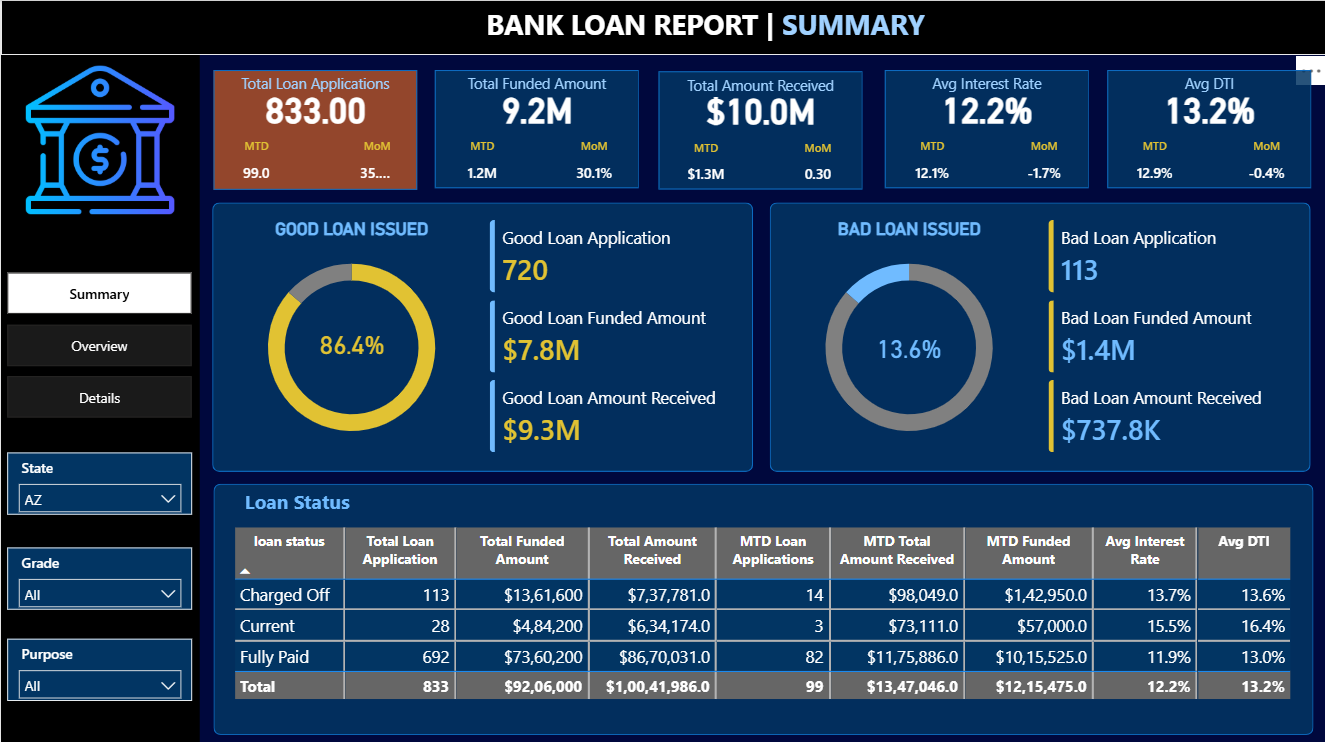

The page's visual inventory and layout, read from the dashboard file:
{"tool":"powerbi","page":{"name":"Summary","canvas":[1280,720],"ordinal":0},"visuals":[{"type":"shape","box":[0,53.1,191.8,667.2],"z":0},{"type":"shape","box":[0,0,1280,53],"z":1000},{"type":"shape","box":[205.1,67.3,196.6,115.7],"z":1000,"group":"g1"},{"type":"shape","box":[418,67.3,197.2,114.2],"z":1000,"group":"g2"},{"type":"shape","box":[1067.7,67.3,197.2,114.2],"z":1000,"group":"g4"},{"type":"shape","box":[634.6,68.5,197.2,114.2],"z":1000,"group":"g3"},{"type":"donutChart","title":"GOOD LOAN ISSUED","fields":{"Category":["Bank_loan_data.Good vs Bad Loan"],"Y":["Bank_loan_data.Total Loan Application"]},"box":[213.5,211.1,250,230],"z":1500,"group":"g5"},{"type":"shape","box":[853.1,67.2,197.2,114.2],"z":2000},{"type":"cardVisual","fields":{"Data":["Bank_loan_data.Total Funded Amount"]},"box":[419.5,80.7,196,52.4],"z":2000,"group":"g2"},{"type":"cardVisual","fields":{"Data":["Bank_loan_data.Avg DTI"]},"box":[1069.2,80.7,196,52.4],"z":2000,"group":"g4"},{"type":"cardVisual","fields":{"Data":["Bank_loan_data.Total Loan Application"]},"box":[206.6,80.9,195.4,53.1],"z":2000,"group":"g1"},{"type":"cardVisual","fields":{"Data":["Bank_loan_data.Total Amount Received"]},"box":[636.1,81.9,196,52.4],"z":2000,"group":"g3"},{"type":"cardVisual","fields":{"Data":["Bank_loan_data.Avg Interest Rate"]},"box":[854.6,80.6,196,52.4],"z":3000},{"type":"cardVisual","fields":{"Data":["Bank_loan_data.Good Loan Application"]},"box":[278.6,307.6,120.6,51.9],"z":3000,"group":"g5"},{"type":"shape","box":[203.9,195.4,522,260],"z":4000},{"type":"textbox","box":[463.3,0,447.6,56.7],"z":5000},{"type":"textbox","box":[205.4,66.4,196.6,29],"z":5000,"group":"g1"},{"type":"textbox","box":[418.3,66.4,197.2,28.6],"z":5000,"group":"g2"},{"type":"textbox","box":[1068,66.4,197.2,28.6],"z":5000,"group":"g4"},{"type":"textbox","box":[634.9,67.6,197.2,28.6],"z":5000,"group":"g3"},{"type":"group","id":"g1","title":"Group 1","box":[205.1,66.4,196.6,117],"z":6000},{"type":"cardVisual","title":"MTD","fields":{"Data":["Bank_loan_data.MTD Funded Amount"]},"box":[418.7,133.4,89.5,48.8],"z":6000,"group":"g2"},{"type":"cardVisual","title":"MTD","fields":{"Data":["Bank_loan_data.MTD Avg DTI"]},"box":[1068.4,133.4,89.5,48.8],"z":6000,"group":"g4"},{"type":"cardVisual","title":"MTD","fields":{"Data":["Bank_loan_data.MTD Loan Applications"]},"box":[206.6,134,80.8,49.5],"z":6000,"group":"g1"},{"type":"cardVisual","title":"MTD","fields":{"Data":["Bank_loan_data.MTD Total Amount Received"]},"box":[635.3,134.6,89.5,48.8],"z":6000,"group":"g3"},{"type":"group","id":"g2","title":"Group 1","box":[418,66.4,197.9,115.8],"z":7000},{"type":"cardVisual","title":"MoM","fields":{"Data":["Bank_loan_data.MoM Total Funded Amount"]},"box":[527.5,133.4,88.3,48.8],"z":7000,"group":"g2"},{"type":"cardVisual","title":"MoM","fields":{"Data":["Bank_loan_data.MoM Avg DTI"]},"box":[1177.2,133.4,88.3,48.8],"z":7000,"group":"g4"},{"type":"cardVisual","title":"MoM","fields":{"Data":["Bank_loan_data.MoM Loan Applications"]},"box":[324.8,134,77.2,49.5],"z":7000,"group":"g1"},{"type":"cardVisual","title":"MoM","fields":{"Data":["Bank_loan_data.MoM Total Amount Recievedt"]},"box":[744.1,134.6,88.3,48.8],"z":7000,"group":"g3"},{"type":"textbox","box":[853.4,66.4,197.2,28.6],"z":8000},{"type":"cardVisual","title":"MTD","fields":{"Data":["Bank_loan_data.MTD Avg Interest Rate"]},"box":[853.8,133.4,89.5,48.8],"z":9000},{"type":"shape","box":[205.1,466.9,1061.7,242.5],"z":10000},{"type":"cardVisual","title":"MoM","fields":{"Data":["Bank_loan_data.MoM Avg Interest Rate"]},"box":[962.7,133.4,88.3,48.8],"z":11000},{"type":"textbox","box":[224.4,466.9,123.1,37.4],"z":12000},{"type":"group","id":"g3","title":"Group 1","box":[634.6,67.6,197.9,115.8],"z":13000},{"type":"group","id":"g4","title":"Group 1","box":[1067.7,66.4,197.9,115.8],"z":14000},{"type":"shape","box":[742,195.4,522,260],"z":15000},{"type":"cardVisual","fields":{"Data":["Bank_loan_data.Good Loan Application","Bank_loan_data.Good Loan Funded Amount","Bank_loan_data.Good Loan Amount Received"]},"box":[454.8,195.4,270.2,260.6],"z":16000},{"type":"donutChart","title":"BAD LOAN ISSUED","fields":{"Category":["Bank_loan_data.Good vs Bad Loan"],"Y":["Bank_loan_data.Total Loan Application"]},"box":[751.6,211.1,250,230],"z":17000},{"type":"group","id":"g5","title":"Group 2","box":[213.5,211.1,249.7,230.4],"z":18000},{"type":"cardVisual","fields":{"Data":["Bank_loan_data.Bad Loan %"]},"box":[819.2,307.6,114.6,60.3],"z":19000},{"type":"cardVisual","fields":{"Data":["Bank_loan_data.Bad Loan Application","Bank_loan_data.Bad Loan Funded Amount","Bank_loan_data.Bad Loan Amount Received"]},"box":[994.1,195.4,270.2,260.6],"z":20000},{"type":"tableEx","fields":{"Values":["Bank_loan_data.loan_status","Bank_loan_data.Total Loan Application","Bank_loan_data.Total Funded Amount","Bank_loan_data.Total Amount Received","Bank_loan_data.MTD Loan Applications","Bank_loan_data.MTD Total Amount Received","Bank_loan_data.MTD Funded Amount","Bank_loan_data.Avg Interest Rate","Bank_loan_data.Avg DTI"]},"box":[219.6,504.3,1031.5,196.6],"z":21000},{"type":"slicer","fields":{"Values":["Bank_loan_data.address_state"]},"box":[6,436.7,178.6,60.3],"z":22000},{"type":"slicer","fields":{"Values":["Bank_loan_data.grade"]},"box":[6,528.4,178.6,60.3],"z":23000},{"type":"slicer","fields":{"Values":["Bank_loan_data.purpose"]},"box":[6,616.5,178.6,60.3],"z":24000},{"type":"image","box":[0,53.1,191.8,164.1],"z":25000},{"type":"pageNavigator","box":[6,263,178.6,141.2],"z":26000}]}

Visuals, with their boxes in screenshot pixels (x1, y1, x2, y2), scaled from the page's 1280x720 canvas onto the 1325x742 screenshot:
shape: left=0, top=55, right=199, bottom=741
shape: left=0, top=0, right=1324, bottom=55
shape: left=212, top=69, right=416, bottom=189
shape: left=433, top=69, right=637, bottom=187
shape: left=1105, top=69, right=1309, bottom=187
shape: left=657, top=71, right=861, bottom=188
"GOOD LOAN ISSUED" donutChart: left=221, top=218, right=480, bottom=455
shape: left=883, top=69, right=1087, bottom=187
cardVisual - Bank_loan_data.Total Funded Amount: left=434, top=83, right=637, bottom=137
cardVisual - Bank_loan_data.Avg DTI: left=1107, top=83, right=1310, bottom=137
cardVisual - Bank_loan_data.Total Loan Application: left=214, top=83, right=416, bottom=138
cardVisual - Bank_loan_data.Total Amount Received: left=658, top=84, right=861, bottom=138
cardVisual - Bank_loan_data.Avg Interest Rate: left=885, top=83, right=1088, bottom=137
cardVisual - Bank_loan_data.Good Loan Application: left=288, top=317, right=413, bottom=370
shape: left=211, top=201, right=751, bottom=469
textbox: left=480, top=0, right=943, bottom=58
textbox: left=213, top=68, right=416, bottom=98
textbox: left=433, top=68, right=637, bottom=98
textbox: left=1106, top=68, right=1310, bottom=98
textbox: left=657, top=70, right=861, bottom=99
"Group 1" group: left=212, top=68, right=416, bottom=189
"MTD" cardVisual: left=433, top=137, right=526, bottom=188
"MTD" cardVisual: left=1106, top=137, right=1199, bottom=188
"MTD" cardVisual: left=214, top=138, right=298, bottom=189
"MTD" cardVisual: left=658, top=139, right=750, bottom=189
"Group 1" group: left=433, top=68, right=638, bottom=188
"MoM" cardVisual: left=546, top=137, right=637, bottom=188
"MoM" cardVisual: left=1219, top=137, right=1310, bottom=188
"MoM" cardVisual: left=336, top=138, right=416, bottom=189
"MoM" cardVisual: left=770, top=139, right=862, bottom=189
textbox: left=883, top=68, right=1088, bottom=98
"MTD" cardVisual: left=884, top=137, right=976, bottom=188
shape: left=212, top=481, right=1311, bottom=731
"MoM" cardVisual: left=997, top=137, right=1088, bottom=188
textbox: left=232, top=481, right=360, bottom=520
"Group 1" group: left=657, top=70, right=862, bottom=189
"Group 1" group: left=1105, top=68, right=1310, bottom=188
shape: left=768, top=201, right=1308, bottom=469
cardVisual - Bank_loan_data.Good Loan Application x Bank_loan_data.Good Loan Funded Amount: left=471, top=201, right=750, bottom=470
"BAD LOAN ISSUED" donutChart: left=778, top=218, right=1037, bottom=455
"Group 2" group: left=221, top=218, right=479, bottom=455
cardVisual - Bank_loan_data.Bad Loan %: left=848, top=317, right=967, bottom=379
cardVisual - Bank_loan_data.Bad Loan Application x Bank_loan_data.Bad Loan Funded Amount: left=1029, top=201, right=1309, bottom=470
tableEx - Bank_loan_data.loan_status x Bank_loan_data.Total Loan Application: left=227, top=520, right=1295, bottom=722
slicer - Bank_loan_data.address_state: left=6, top=450, right=191, bottom=512
slicer - Bank_loan_data.grade: left=6, top=545, right=191, bottom=607
slicer - Bank_loan_data.purpose: left=6, top=635, right=191, bottom=697
image: left=0, top=55, right=199, bottom=224
pageNavigator: left=6, top=271, right=191, bottom=417
